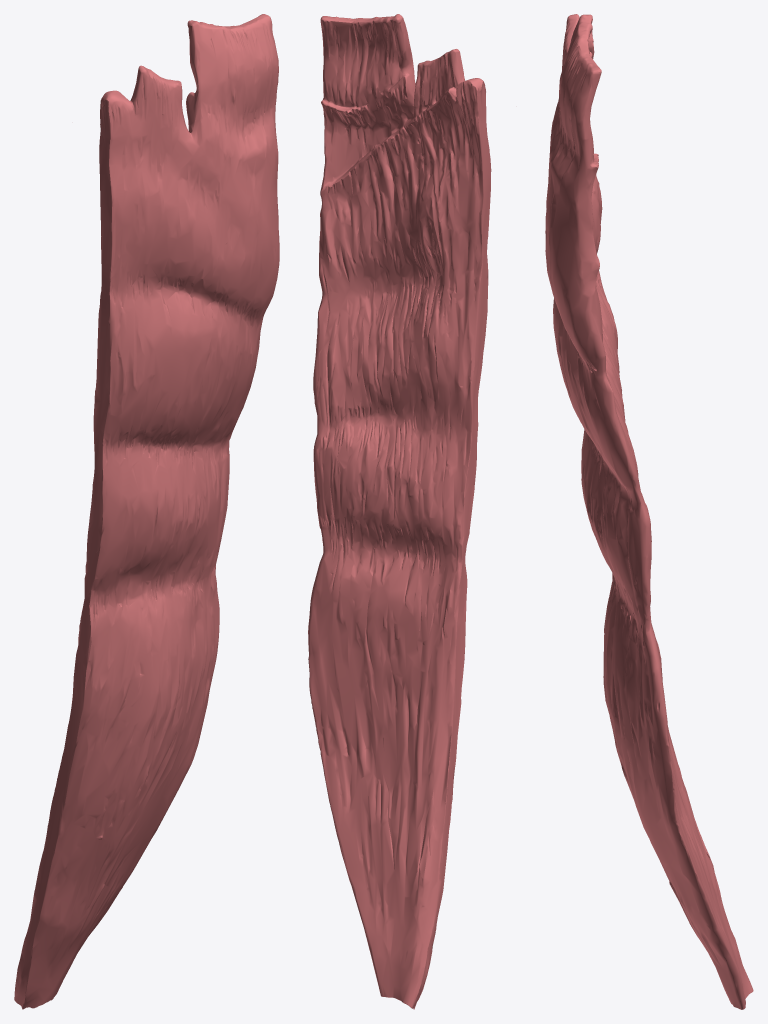
File: BP3D3_FMA13378.glb
3 renders of one model, left to right at view 1: azimuth 30°, elevation 25°; view 2: azimuth 150°, elevation 25°; view 3: azimuth 270°, elevation 25°, orthographic. The views are drawn at different scales.
Parts seen in each view (by area): view 1: BP3D3_FMA13378; view 2: BP3D3_FMA13378; view 3: BP3D3_FMA13378.
Part boxes in pixels (box(x1,y1,x2,y2)): BP3D3_FMA13378: box(14, 14, 279, 1009); BP3D3_FMA13378: box(308, 14, 491, 1009); BP3D3_FMA13378: box(545, 14, 753, 1009).
Size of the model in its own units: 0.0846 by 0.3932 by 0.0719.
